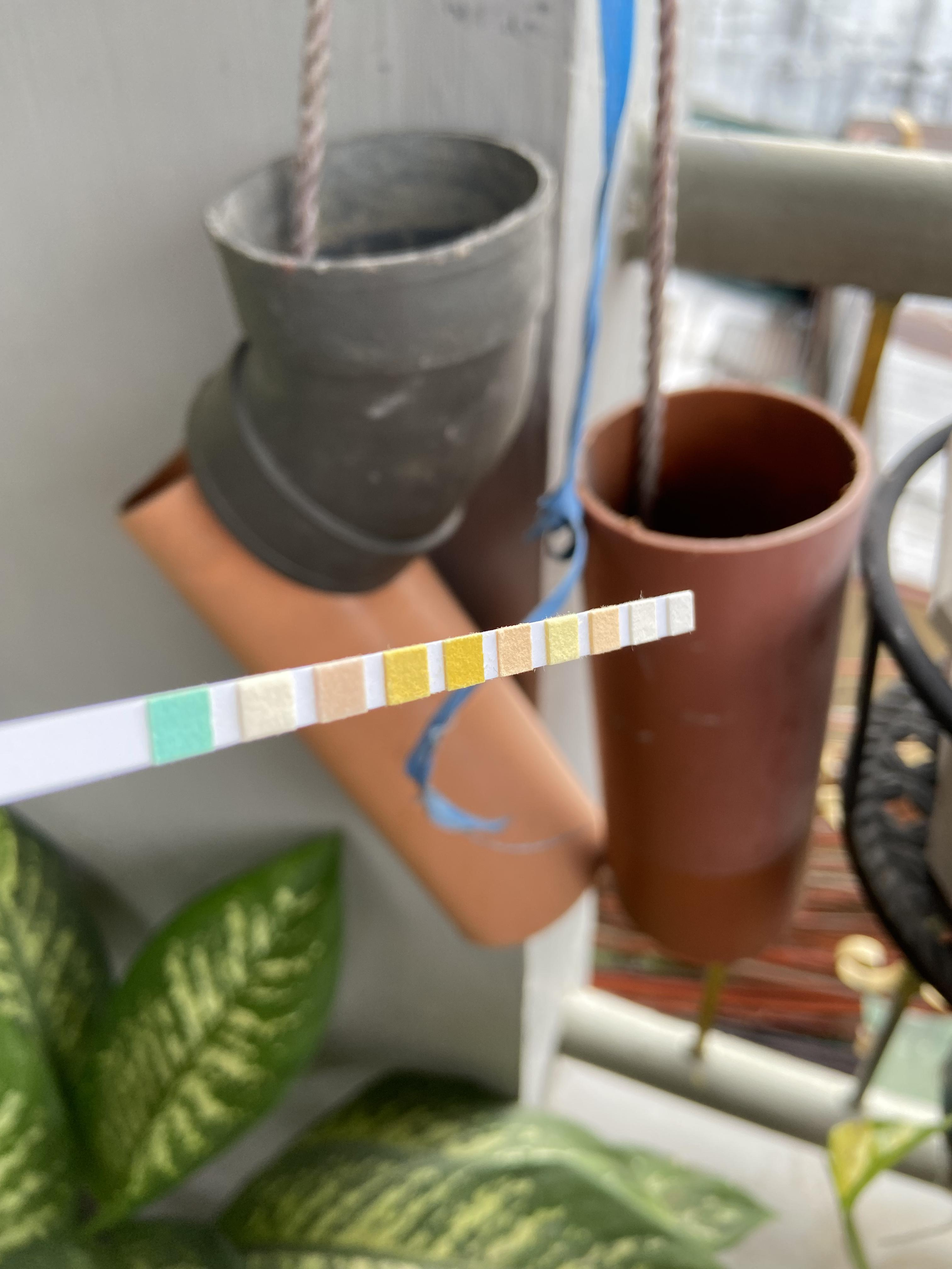Bilirubin: (251, 682, 291, 730)
Blood: (449, 642, 482, 682)
Glucose: (160, 699, 208, 755)
Ketone: (325, 669, 364, 712)
Leukocytes: (672, 597, 692, 631)
Nitrite: (634, 605, 656, 640)
Protein: (550, 623, 578, 659)
SpGravity: (393, 656, 427, 696)
Urobilinogen: (595, 613, 619, 649)
pH: (501, 632, 529, 670)
strip: (1, 589, 693, 806)
